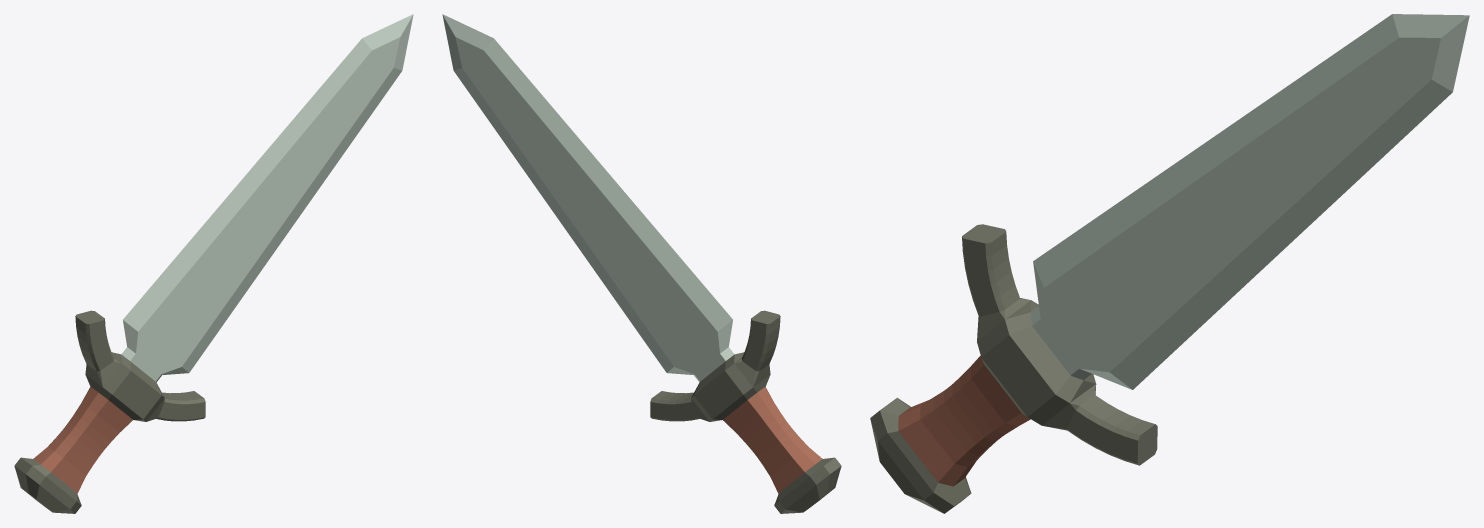
File: sword.glb
3 views of the same model, side by side, from view 1: azimuth 30°, elevation 25°; view 2: azimuth 150°, elevation 25°; view 3: azimuth 330°, elevation 25° (orthographic). The views are drawn at different scales.
Visible parts, largest first — view 1: Sword; view 2: Sword; view 3: Sword.
Part boxes in pixels (x1,y1,x2,y2): Sword: (14, 14, 413, 513); Sword: (442, 14, 841, 513); Sword: (870, 14, 1469, 513).
Bounding box in the file's own units: 13.78 × 13.78 × 1.46.
